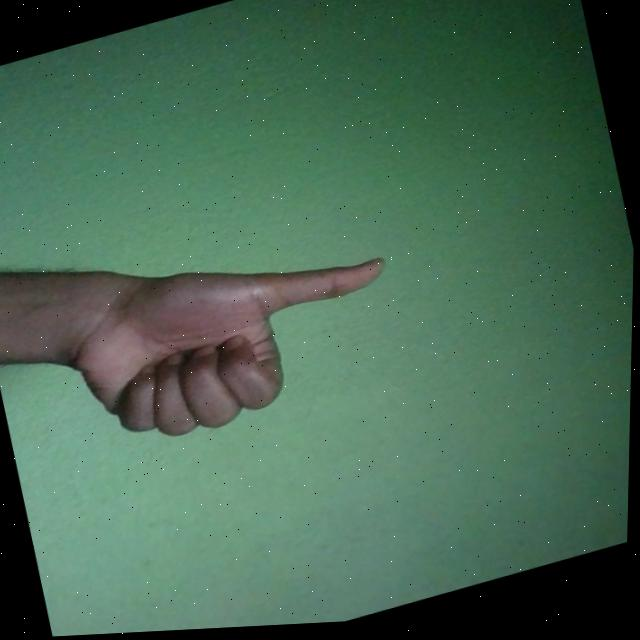Good Job: (53, 218, 412, 467)
